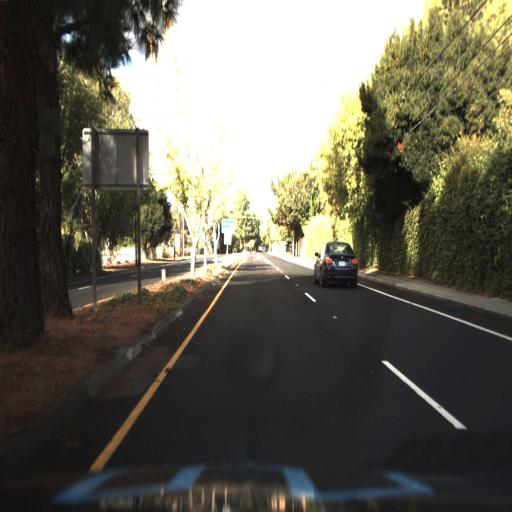car: (312, 239, 359, 289)
